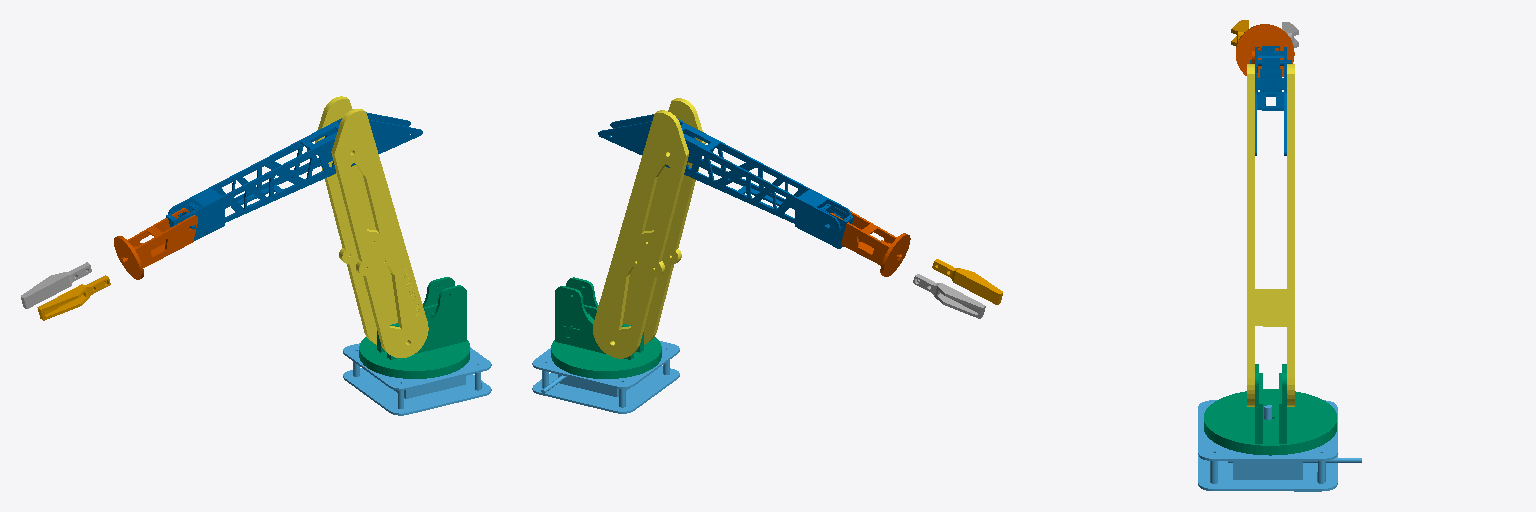
robot.urdf — rover:
<?xml version="1.0" ?>
<!-- =================================================================================== -->
<!-- |    This document was autogenerated by xacro from [local-path]/arduino_bot/src/robot_arm_description/urdf/marty_arm.urdf.xacro | -->
<!-- |    EDITING THIS FILE BY HAND IS NOT RECOMMENDED                                 | -->
<!-- =================================================================================== -->
<robot name="rover">
    <link name="world" />
    <link name="base">
        <inertial>
            <mass value="5.96036834137502" />
            <inertia ixx="0.0137239871414956" ixy="2.3638667800933E-07" ixz="-0.000364311854125712" iyy="0.0269814949976083" iyz="-2.00027728952392E-06" izz="0.014279349996248" />
            <origin xyz="0 0 0" rpy="0 0 0" />
        </inertial>
        <visual>
            <origin rpy="1.57 0 0" xyz="-0.13 0 0" />
            <geometry>
                <mesh filename="package://robot_arm_description/mesh/Base_Assem_1.STL" scale="0.001 0.001 0.001" />
            </geometry>
        </visual>
        <collision>
            <origin rpy="1.57 0 0" xyz="-0.13 0 0" />
            <geometry>
                <mesh filename="package://robot_arm_description/mesh/Base_Assem_1.STL" scale="0.001 0.001 0.001" />
            </geometry>
        </collision>
    </link>
    <link name="base2">
        <inertial>
            <mass value="3.89596770051855" />
            <inertia ixx="0.0191021438712721" ixy="0.000738177788943129" ixz="0.0011681549752791" iyy="0.0264194098457387" iyz="-0.00253452919644933" izz="0.0154383525004192" />
            <origin xyz="0 0 0" rpy="0 0 0" />
        </inertial>
        <visual>
            <origin rpy="1.57 0 0" xyz="-0.11 -0.01 0.025" />
            <geometry>
                <mesh filename="package://robot_arm_description/mesh/BaseAct_Assem_2.STL" scale="0.001 0.001 0.001" />
            </geometry>
        </visual>
        <collision>
            <origin rpy="1.57 0 0" xyz="-0.11 -0.01 0.025" />
            <geometry>
                <mesh filename="package://robot_arm_description/mesh/BaseAct_Assem_2.STL" scale="0.001 0.001 0.001" />
            </geometry>
        </collision>
    </link>
    <link name="arm1">
        <inertial>
            <mass value="4.77720765960259" />
            <inertia ixx="0.168367641523994" ixy="-0.000944969125208024" ixz="6.74673054737673E-06" iyy="0.0122648958371462" iyz="-3.04543946683649E-05" izz="0.167124332468444" />
            <origin xyz="0 0 0" rpy="0 0 0" />
        </inertial>
        <visual>
            <origin rpy="0 1.57 1.57" xyz="0.035 -0.04 0.06" />
            <geometry>
                <mesh filename="package://robot_arm_description/mesh/link1_modified.STL" scale="0.001 0.001 0.001" />
            </geometry>
        </visual>
        <collision>
            <origin rpy="0 1.57 1.57" xyz="0.035 -0.04 0.06" />
            <geometry>
                <mesh filename="package://robot_arm_description/mesh/link1_modified.STL" scale="0.001 0.001 0.001" />
            </geometry>
        </collision>
    </link>
    <link name="arm2">
        <inertial>
            <mass value="1.3954149543627" />
            <inertia ixx="0.0341551992778207" ixy="3.3635594681094E-09" ixz="-9.94323089275709E-09" iyy="0.0340603075469231" iyz="0.000969678895230152" izz="0.00166894642902008" />
            <origin xyz="0 0 0" rpy="0 0 0" />
        </inertial>
        <visual>
            <origin rpy="0 1.57 1.57" xyz="0.04 -0.035 -0.035" />
            <geometry>
                <mesh filename="package://robot_arm_description/mesh/link2_assem.STL" scale="0.001 0.001 0.001" />
            </geometry>
        </visual>
        <collision>
            <origin rpy="0 1.57 1.57" xyz="0.04 -0.035 -0.035" />
            <geometry>
                <mesh filename="package://robot_arm_description/mesh/link2_assem.STL" scale="0.001 0.001 0.001" />
            </geometry>
        </collision>
    </link>
    <link name="arm3">
        <inertial>
            <mass value="0.53192129862332" />
            <inertia ixx="0.00186074557200856" ixy="1.06347960425329E-07" ixz="-7.97411659174863E-07" iyy="0.00186651438031198" iyz="0.000182892043883162" izz="0.000573407427302563" />
            <origin xyz="0 0 0" rpy="0 0 0" />
        </inertial>
        <visual>
            <origin rpy="3.14 1.57 1.57" xyz="-0.17 0.05 0.075" />
            <geometry>
                <mesh filename="package://robot_arm_description/mesh/link3_mod.STL" scale="0.001 0.001 0.001" />
            </geometry>
        </visual>
        <collision>
            <origin rpy="3.14 1.57 1.57" xyz="-0.17 0.05 0.075" />
            <geometry>
                <mesh filename="package://robot_arm_description/mesh/link3_mod.STL" scale="0.001 0.001 0.001" />
            </geometry>
        </collision>
    </link>
    <link name="gripper_arm_join">
        <inertial>
            <mass value="0.716925759354264" />
            <inertia ixx="0.000853308507486361" ixy="-0.000552251129474354" ixz="-2.46729187502994E-09" iyy="0.00108489827843447" iyz="6.82682593436447E-09" izz="0.00165199325783986" />
            <origin xyz="0 0 0" rpy="0 0 0" />
        </inertial>
        <visual>
            <origin rpy="1.57 1.45 1.57" xyz="-0.035 -0.022 0.035" />
            <geometry>
                <mesh filename="package://robot_arm_description/mesh/gripper_assem_mod.STL" scale="0.001 0.001 0.001" />
            </geometry>
        </visual>
        <collision>
            <origin rpy="1.57 1.45 1.57" xyz="-0.035 -0.022 0.035" />
            <geometry>
                <mesh filename="package://robot_arm_description/mesh/gripper_assem_mod.STL" scale="0.001 0.001 0.001" />
            </geometry>
        </collision>
    </link>
    <link name="gripper_left">
        <inertial>
            <mass value="0.197392232379841" />
            <inertia ixx="0.000451122398079037" ixy="3.98148365462816E-12" ixz="9.57839155740049E-06" iyy="0.000443471888198326" iyz="2.05364892251969E-11" izz="2.79034093029294E-05" />
            <origin xyz="0 0 0" rpy="0 0 0" />
        </inertial>
        <visual>
            <origin rpy="0 0 1.57" xyz="0.0375 0.030 -0.015" />
            <geometry>
                <mesh filename="package://robot_arm_description/mesh/Gripper Finger.STL" scale="0.001 0.001 0.001" />
            </geometry>
        </visual>
        <collision>
            <origin rpy="0 0 1.57" xyz="0.0375 0.030 -0.015" />
            <geometry>
                <mesh filename="package://robot_arm_description/mesh/Gripper Finger.STL" scale="0.001 0.001 0.001" />
            </geometry>
        </collision>
    </link>
    <link name="gripper_right">
        <inertial>
            <mass value="0.197392232379841" />
            <inertia ixx="0.000451122398079037" ixy="3.98148365462816E-12" ixz="9.57839155740049E-06" iyy="0.000443471888198326" iyz="2.05364892251969E-11" izz="2.79034093029294E-05" />
            <origin xyz="0 0 0" rpy="0 0 0" />
        </inertial>
        <visual>
            <origin rpy="3.14 0 -1.57" xyz="0.0375 -0.030 0.02" />
            <geometry>
                <mesh filename="package://robot_arm_description/mesh/Gripper Finger.STL" scale="0.001 0.001 0.001" />
            </geometry>
        </visual>
        <collision>
            <origin rpy="3.14 0 -1.57" xyz="0.0375 -0.030 0.02" />
            <geometry>
                <mesh filename="package://robot_arm_description/mesh/Gripper Finger.STL" scale="0.001 0.001 0.001" />
            </geometry>
        </collision>
    </link>
    <joint name="virtual_joint" type="fixed">
        <parent link="world" />
        <child link="base" />
        <origin rpy="0 0 0" xyz="0 0 0.0" />
    </joint>
    <joint name="joint1" type="revolute">
        <parent link="base" />
        <child link="base2" />
        <origin rpy="0 0 0" xyz="0 0 0.05" />
        <axis xyz="0 0 1" />
        <limit effort="30" lower="-3.14" upper="3.14" velocity="10" />
    </joint>
    <joint name="joint2" type="revolute">
        <parent link="base2" />
        <child link="arm1" />
        <origin rpy="0 0 0" xyz="-0.045 0 0.08" />
        <axis xyz="0 1 0" />
        <limit effort="30" lower="1.0466666666666666" upper="1.57" velocity="10" />
    </joint>
    <joint name="joint3" type="revolute">
        <parent link="arm1" />
        <child link="arm2" />
        <origin rpy="0 0 0" xyz="-0.53 0 -0.01" />
        <axis xyz="0 1 0" />
        <limit effort="30" lower="-0.785" upper="0.5233333333333333" velocity="10" />
    </joint>
    <joint name="joint4" type="revolute">
        <parent link="arm2" />
        <child link="arm3" />
        <origin rpy="0 0 0" xyz="-0.015 0 -0.42" />
        <axis xyz="0 1 0" />
        <limit effort="30" lower="-2.355" upper="-0.785" velocity="10" />
    </joint>
    <joint name="joint5" type="revolute">
        <parent link="arm3" />
        <child link="gripper_arm_join" />
        <origin rpy="0 0 0" xyz="-0.25 -0.005 -0.01" />
        <axis xyz="1 0 0" />
        <limit effort="30" lower="-3.14" upper="3.14" velocity="10" />
    </joint>
    <joint name="joint6" type="prismatic">
        <parent link="gripper_arm_join" />
        <child link="gripper_left" />
        <origin rpy="0 0 0" xyz="-0.025 0 0" />
        <axis xyz="0 1 0" />
        <limit effort="30" lower="0" upper="0.05" velocity="10" />
    </joint>
    <joint name="joint7" type="prismatic">
        <parent link="gripper_arm_join" />
        <child link="gripper_right" />
        <origin rpy="0 0 0" xyz="-0.025 0 0" />
        <axis xyz="0 1 0" />
        <limit effort="30" lower="-0.05" upper="0" velocity="10" />
        <mimic joint="joint6" multiplier="-1" offset="0" />
    </joint>
    <transmission name="transmission1">
        <type>transmission_interface/SimpleTransmission</type>
        <joint name="joint1">
            <hardwareInterface>hardware_interface/PositionJointInterface</hardwareInterface>
        </joint>
        <actuator name="motor1">
            <hardwareInterface>hardware_interface/PositionJointInterface</hardwareInterface>
            <mechanicalReduction>1</mechanicalReduction>
        </actuator>
    </transmission>
    <transmission name="transmission2">
        <type>transmission_interface/SimpleTransmission</type>
        <joint name="joint2">
            <hardwareInterface>hardware_interface/PositionJointInterface</hardwareInterface>
        </joint>
        <actuator name="motor2">
            <hardwareInterface>hardware_interface/PositionJointInterface</hardwareInterface>
            <mechanicalReduction>1</mechanicalReduction>
        </actuator>
    </transmission>
    <transmission name="transmission3">
        <type>transmission_interface/SimpleTransmission</type>
        <joint name="joint3">
            <hardwareInterface>hardware_interface/PositionJointInterface</hardwareInterface>
        </joint>
        <actuator name="motor3">
            <hardwareInterface>hardware_interface/PositionJointInterface</hardwareInterface>
            <mechanicalReduction>1</mechanicalReduction>
        </actuator>
    </transmission>
    <transmission name="transmission4">
        <type>transmission_interface/SimpleTransmission</type>
        <joint name="joint4">
            <hardwareInterface>hardware_interface/PositionJointInterface</hardwareInterface>
        </joint>
        <actuator name="motor4">
            <hardwareInterface>hardware_interface/PositionJointInterface</hardwareInterface>
            <mechanicalReduction>1</mechanicalReduction>
        </actuator>
    </transmission>
    <transmission name="transmission5">
        <type>transmission_interface/SimpleTransmission</type>
        <joint name="joint5">
            <hardwareInterface>hardware_interface/PositionJointInterface</hardwareInterface>
        </joint>
        <actuator name="motor5">
            <hardwareInterface>hardware_interface/PositionJointInterface</hardwareInterface>
            <mechanicalReduction>1</mechanicalReduction>
        </actuator>
    </transmission>
    <transmission name="transmission6">
        <type>transmission_interface/SimpleTransmission</type>
        <joint name="joint6">
            <hardwareInterface>hardware_interface/PositionJointInterface</hardwareInterface>
        </joint>
        <actuator name="motor6">
            <hardwareInterface>hardware_interface/PositionJointInterface</hardwareInterface>
            <mechanicalReduction>1</mechanicalReduction>
        </actuator>
    </transmission>
    <transmission name="transmission7">
        <type>transmission_interface/SimpleTransmission</type>
        <joint name="joint7">
            <hardwareInterface>hardware_interface/PositionJointInterface</hardwareInterface>
        </joint>
        <actuator name="motor7">
            <hardwareInterface>hardware_interface/PositionJointInterface</hardwareInterface>
            <mechanicalReduction>1</mechanicalReduction>
        </actuator>
    </transmission>
    <gazebo>
        <plugin filename="libgazebo_ros_control.so" name="gazebo_ros_control">
            <robotNamespace>/robot_arm</robotNamespace>
            <robotSimType>gazebo_ros_control/DefaultRobotHWSim</robotSimType>
            <legacyModeNS>true</legacyModeNS>
        </plugin>
        <plugin filename="libroroboticsgroup_gazebo_mimic_joint_plugin.so" name="joint7_mimic_joint6">
            <joint>joint6</joint>
            <mimicJoint>joint7</mimicJoint>
            <multiplier>-1.0</multiplier>
            <offset>0</offset>
            <maxEffort>30</maxEffort>
            <robotNamespace>/robot_arm</robotNamespace>
        </plugin>
    </gazebo>
</robot>

--- What the picture shows (computed from the rendered views, not written in the file) ---
Views: 3 orthographic renders of the robot side by side, from view 1: azimuth 30°, elevation 25°; view 2: azimuth 150°, elevation 25°; view 3: azimuth 270°, elevation 25°.
Model rover with 9 links and 8 joints (5 revolute, 2 prismatic, 1 fixed), rooted at world, posed all joints at 0 but 2 set to mid-range because 0 is outside their limits (joint2 = 1.31, joint4 = -1.57).
Visible links, largest first — view 1: arm1, arm2, base2, base, arm3, gripper_right, gripper_left; view 2: arm1, arm2, base2, base, arm3, gripper_left, gripper_right; view 3: base2, arm1, base, arm2, arm3.
Boxes of the visible links, x1,y1,x2,y2 form: arm1: [315, 96, 428, 357]; arm2: [166, 112, 422, 241]; base2: [359, 277, 469, 378]; base: [343, 343, 491, 415]; arm3: [114, 208, 197, 279]; gripper_right: [37, 275, 110, 320]; gripper_left: [21, 262, 91, 308]; arm1: [593, 98, 705, 358]; arm2: [598, 114, 853, 248]; base2: [551, 277, 661, 378]; base: [532, 341, 679, 413]; arm3: [830, 211, 910, 276]; gripper_left: [913, 274, 985, 318]; gripper_right: [932, 259, 1002, 304]; base2: [1204, 364, 1336, 455]; arm1: [1247, 64, 1294, 406]; base: [1198, 400, 1361, 491]; arm2: [1250, 46, 1291, 155]; arm3: [1236, 24, 1294, 77].
Bounding box of the posed robot: 1.14 × 0.305 × 0.7389 m (x, y, z).
Meshes: 7 distinct files referenced, 7 mesh visuals loaded (6 binary STL); not drawn: 1 (reference not matched to a file when rendering).
